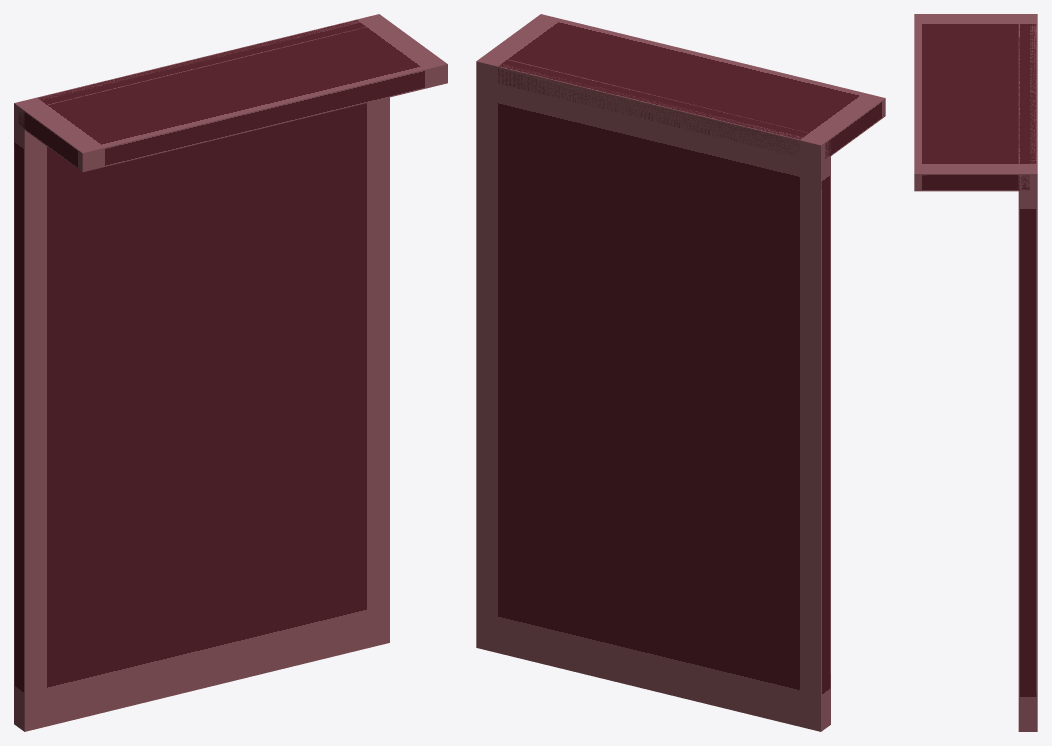
File: cloak.glb
3 views of the same model, side by side, from view 1: azimuth 30°, elevation 25°; view 2: azimuth 150°, elevation 25°; view 3: azimuth 270°, elevation 25° (orthographic). The views are drawn at different scales.
Parts seen in each view (by area): view 1: cloak; view 2: cloak; view 3: cloak.
Part boxes in pixels (x1=…): cloak: x1=14, y1=14, x2=447, y2=731; cloak: x1=476, y1=14, x2=885, y2=731; cloak: x1=914, y1=14, x2=1037, y2=731.
Size of the model in its own units: 0.4 by 0.65 by 0.13.
1 material, 1 textured.
